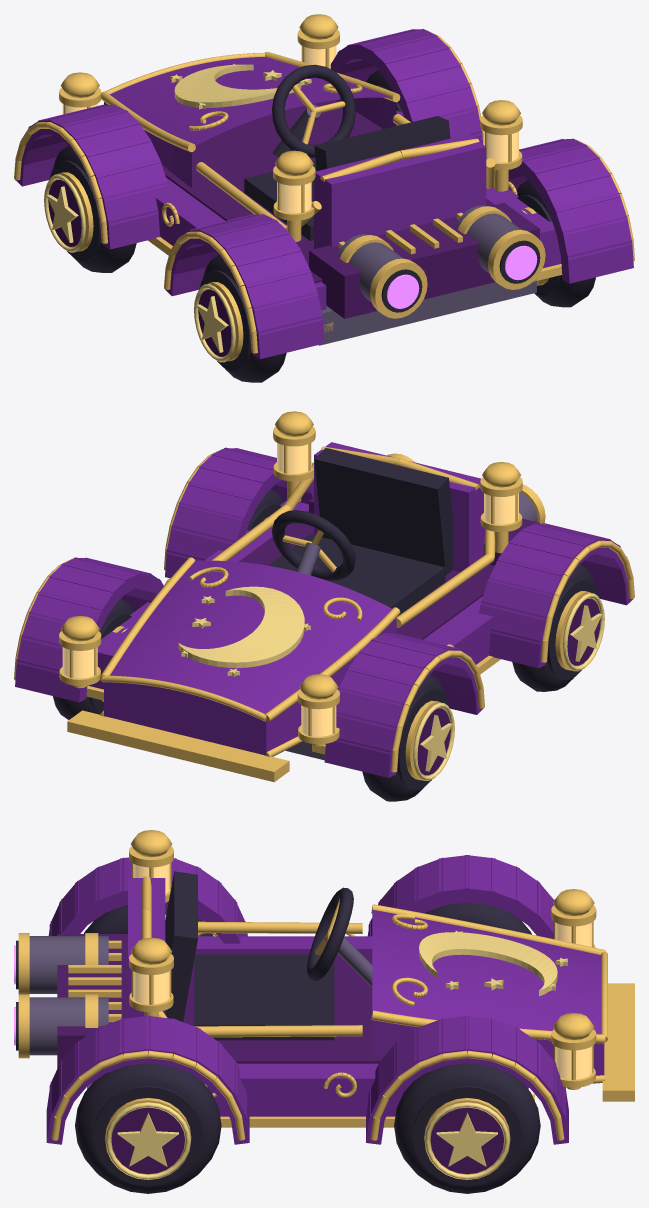
File: kart.glb
3 views of the same model, one above another, from view 1: azimuth 30°, elevation 25°; view 2: azimuth 150°, elevation 25°; view 3: azimuth 270°, elevation 25° (orthographic). The views are drawn at different scales.
Parts seen in each view (by area): view 1: Chassis, AccentMesh, Wheel_RL, Wheel_FL, Exhaust_R, Exhaust_L, SteeringWheel, Wheel_RR; view 2: Chassis, AccentMesh, Wheel_FL, Wheel_RL, SteeringWheel, Wheel_FR, Exhaust_L, Wheel_RR; view 3: Chassis, AccentMesh, Wheel_FR, Wheel_RR, Exhaust_R, Exhaust_L, SteeringWheel, Wheel_FL, Wheel_RL.
Boxes of the visible parts, x1,y1,x2,y2 form: Chassis: [15, 29, 633, 359]; AccentMesh: [14, 14, 634, 353]; Wheel_RL: [194, 255, 286, 382]; Wheel_FL: [44, 145, 136, 272]; Exhaust_R: [456, 205, 545, 289]; Exhaust_L: [338, 234, 427, 318]; SteeringWheel: [272, 64, 355, 157]; Wheel_RR: [516, 180, 595, 307]; Chassis: [15, 442, 633, 777]; AccentMesh: [14, 411, 634, 782]; Wheel_FL: [362, 674, 454, 801]; Wheel_RL: [512, 564, 604, 691]; SteeringWheel: [272, 510, 355, 580]; Wheel_FR: [53, 599, 133, 719]; Exhaust_L: [519, 484, 545, 523]; Wheel_RR: [247, 489, 283, 530]; Chassis: [46, 855, 604, 1144]; AccentMesh: [51, 830, 634, 1140]; Wheel_FR: [394, 1063, 540, 1193]; Wheel_RR: [75, 1063, 221, 1193]; Exhaust_R: [14, 994, 108, 1058]; Exhaust_L: [14, 933, 108, 994]; SteeringWheel: [307, 887, 372, 987]; Wheel_FL: [424, 902, 531, 934]; Wheel_RL: [84, 904, 213, 936].
Size of the model in its own units: 2.92 by 1.54 by 3.85.
